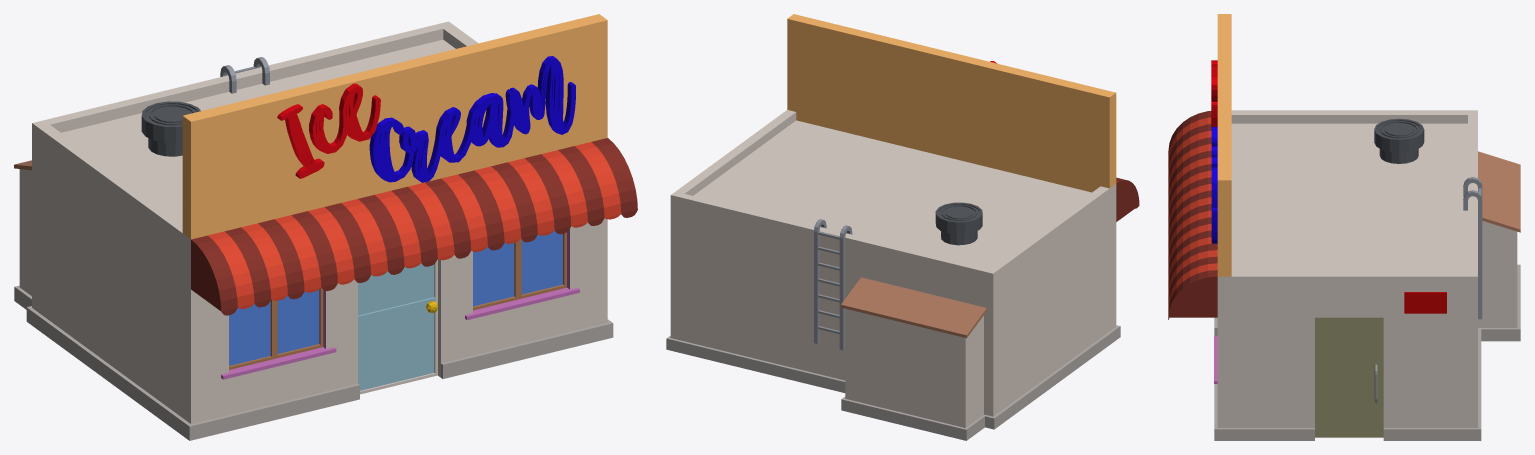
File: Ice_Cream.gltf
The picture shows the model from 3 angles, left to right: view 1: azimuth 30°, elevation 25°; view 2: azimuth 150°, elevation 25°; view 3: azimuth 270°, elevation 25°; orthographic projection. The views are drawn at different scales.
Visible parts, largest first — view 1: Ice_Cream; view 2: Ice_Cream; view 3: Ice_Cream.
Boxes of the visible parts, x1=… form: Ice_Cream: x1=14, y1=14, x2=637, y2=440; Ice_Cream: x1=666, y1=14, x2=1139, y2=440; Ice_Cream: x1=1168, y1=14, x2=1520, y2=440.
Bounding box in the file's own units: 6.01 × 4.29 × 5.28.
